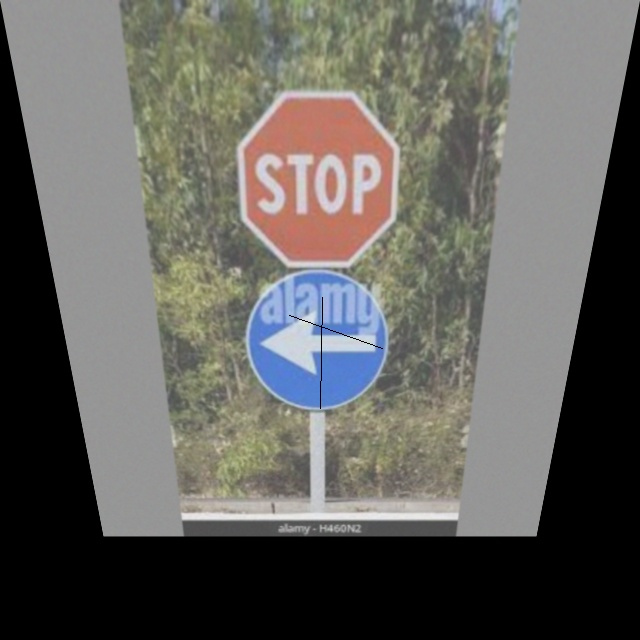Compulsory_Turn_Left: (248, 265, 394, 410)
